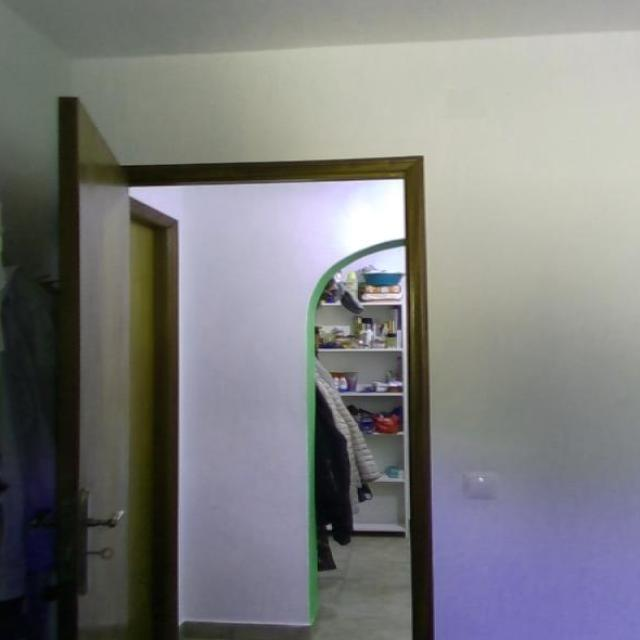door: (31, 95, 158, 640)
